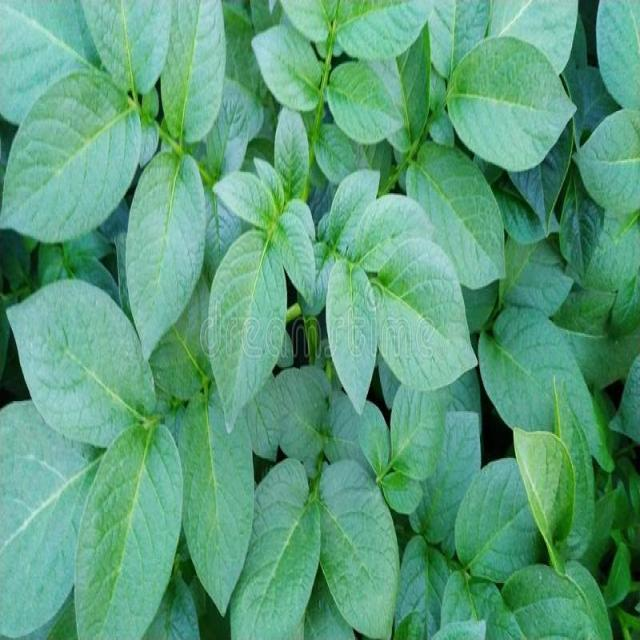Healthy Leaf: (0, 66, 139, 244), (7, 284, 152, 438), (73, 416, 172, 640), (132, 132, 204, 360), (209, 221, 288, 424), (446, 41, 578, 162), (176, 384, 246, 612), (316, 459, 398, 640), (376, 240, 481, 380), (325, 250, 377, 416), (330, 56, 407, 143), (252, 19, 323, 111), (211, 168, 284, 236)
